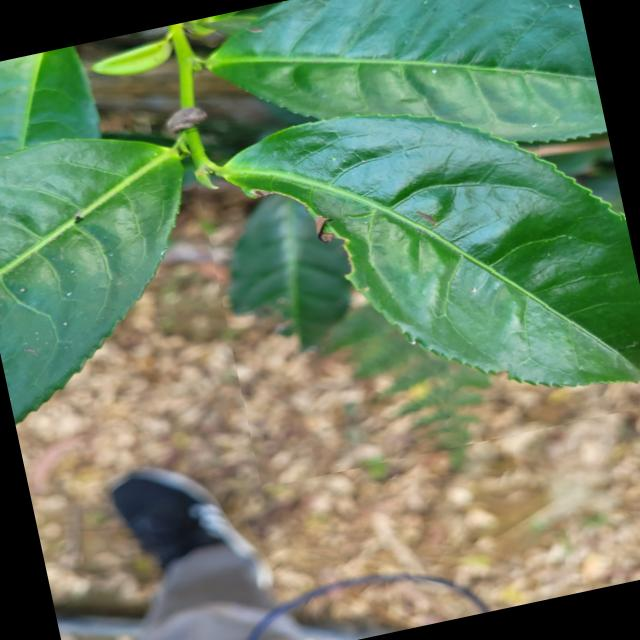Category D(7+ days, Not for Tea): (185, 42, 640, 488)
